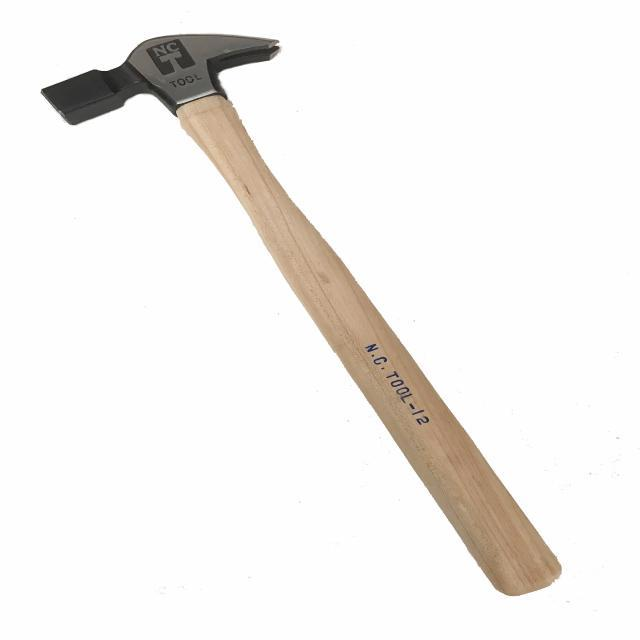hammer: (31, 27, 572, 599)
